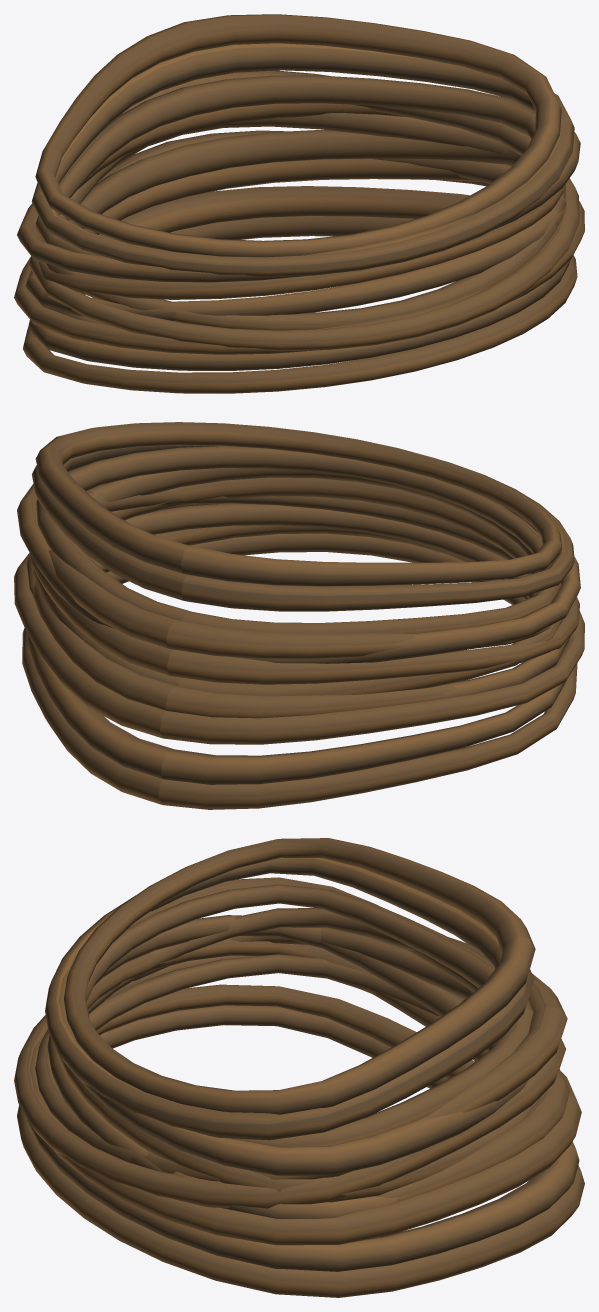
Rendered from Curved_rope.fbx.
3 renders of one model, top to bottom at view 1: azimuth 30°, elevation 25°; view 2: azimuth 150°, elevation 25°; view 3: azimuth 270°, elevation 25°, orthographic. The views are drawn at different scales.
Visible parts, largest first — view 1: sweep9; view 2: sweep9; view 3: sweep9.
Boxes of the visible parts, left/top/right/bottom form: sweep9: left=14, top=14, right=584, bottom=393; sweep9: left=14, top=422, right=584, bottom=809; sweep9: left=14, top=838, right=584, bottom=1297.
Bounding box in the file's own units: 90.6 × 39.29 × 77.68.
Materials: 1 (1 with a texture image).
